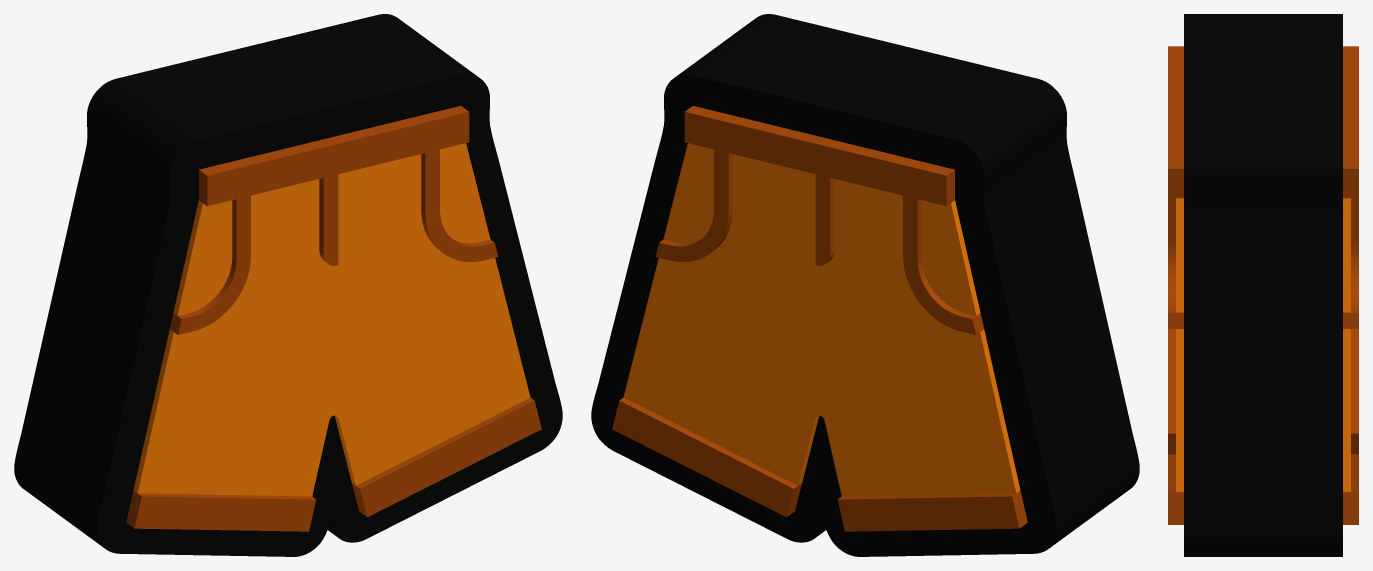
3 renders of one model, left to right at view 1: azimuth 30°, elevation 25°; view 2: azimuth 150°, elevation 25°; view 3: azimuth 270°, elevation 25°, orthographic. The views are drawn at different scales.
Visible parts, largest first — view 1: U+1FA73_layer00_obj00, U+1FA73_layer01_obj00, U+1FA73_layer02_obj00; view 2: U+1FA73_layer00_obj00, U+1FA73_layer01_obj00, U+1FA73_layer02_obj00; view 3: U+1FA73_layer00_obj00, U+1FA73_layer02_obj00, U+1FA73_layer01_obj00.
Boxes of the visible parts, left/top/right/bottom form: U+1FA73_layer00_obj00: left=14, top=14, right=562, bottom=556; U+1FA73_layer01_obj00: left=133, top=143, right=530, bottom=496; U+1FA73_layer02_obj00: left=126, top=106, right=541, bottom=531; U+1FA73_layer00_obj00: left=591, top=14, right=1139, bottom=556; U+1FA73_layer01_obj00: left=623, top=143, right=1020, bottom=496; U+1FA73_layer02_obj00: left=612, top=106, right=1027, bottom=531; U+1FA73_layer00_obj00: left=1184, top=14, right=1342, bottom=556; U+1FA73_layer02_obj00: left=1168, top=46, right=1358, bottom=524; U+1FA73_layer01_obj00: left=1176, top=198, right=1350, bottom=491.
Bounding box in the file's own units: 0.6491 × 0.588 × 0.24.
